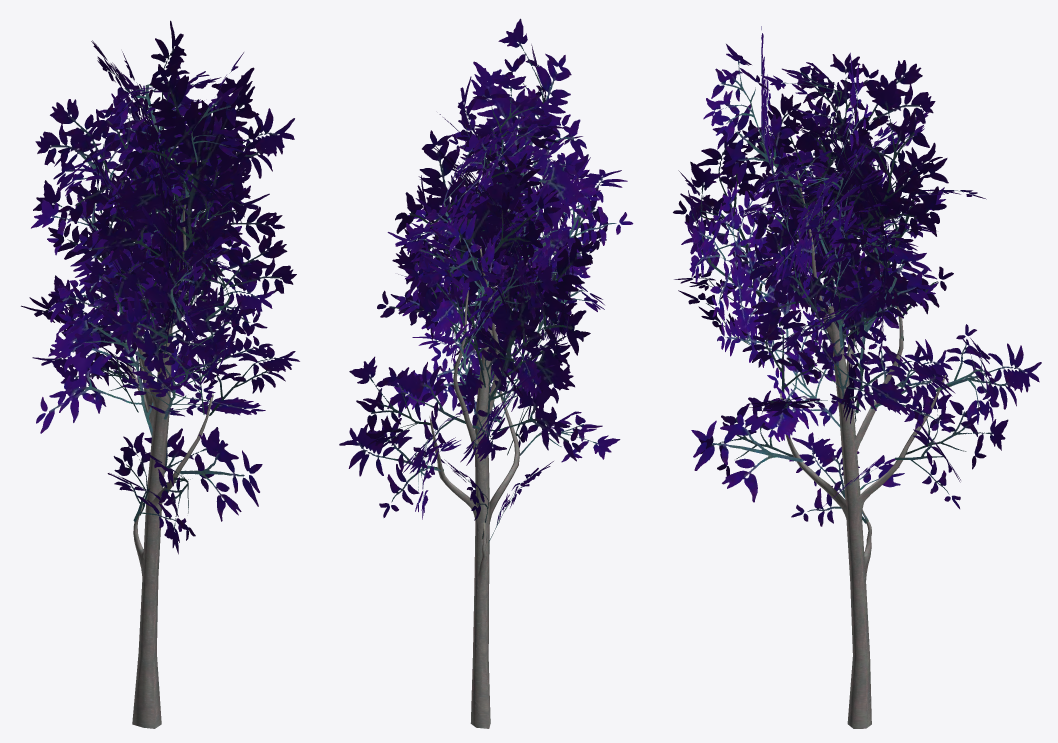
3 renders of one model, left to right at view 1: azimuth 30°, elevation 25°; view 2: azimuth 150°, elevation 25°; view 3: azimuth 270°, elevation 25°, orthographic. The views are drawn at different scales.
Parts seen in each view (by area): view 1: SM_GF_Ash_Sapling_02_LOD0; view 2: SM_GF_Ash_Sapling_02_LOD0; view 3: SM_GF_Ash_Sapling_02_LOD0.
Boxes of the visible parts, x1,y1,x2,y2 form: SM_GF_Ash_Sapling_02_LOD0: (21, 20, 299, 728); SM_GF_Ash_Sapling_02_LOD0: (339, 18, 633, 728); SM_GF_Ash_Sapling_02_LOD0: (673, 26, 1041, 728).
Bounding box in the file's own units: 0.8373 × 2.44 × 1.2.
Materials: 2 (2 with a texture image).
